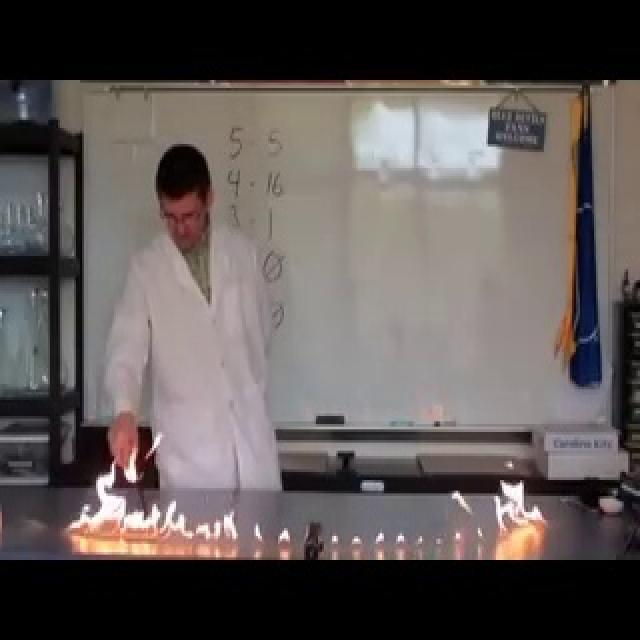fire: (62, 452, 230, 542), (489, 473, 549, 536)
